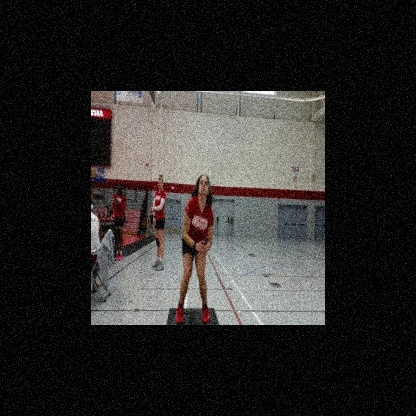lateral_flexion_right: (174, 172, 215, 325)
stance_width_broad: (175, 194, 214, 325)
